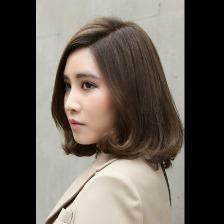Non hijab: (46, 14, 186, 163)
